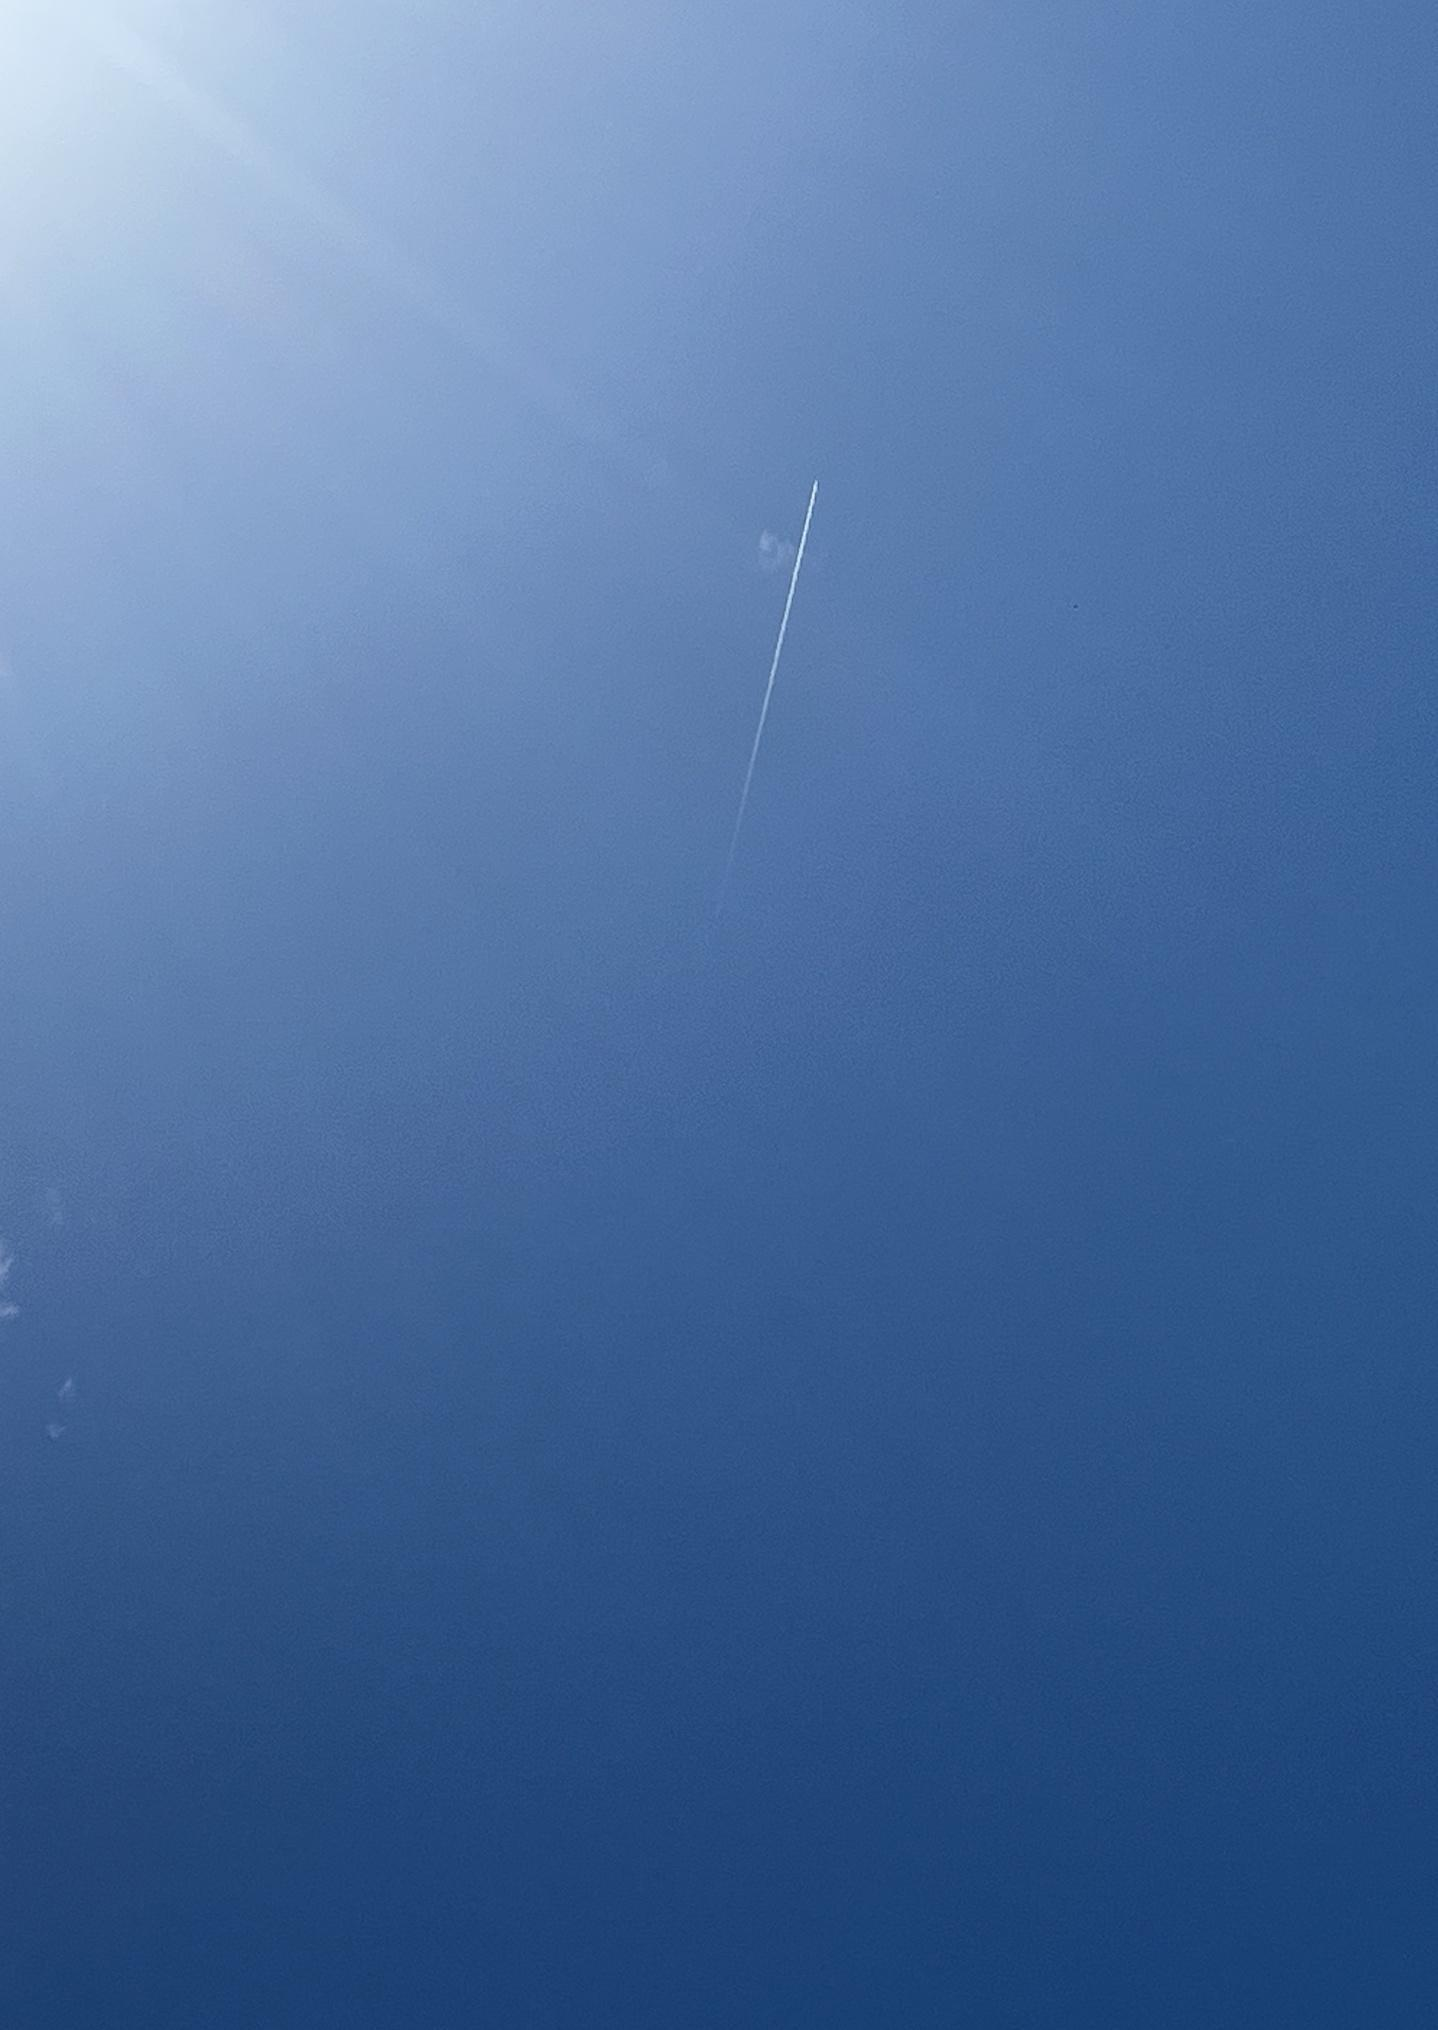Plane: (714, 431, 859, 768)
